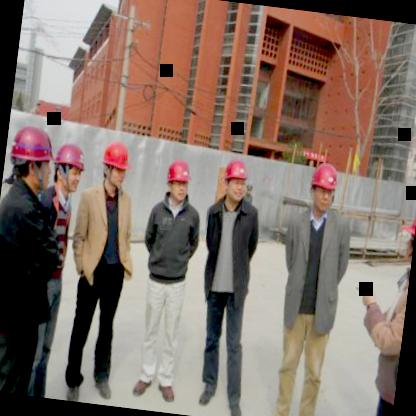helmet: (7, 122, 56, 190), (96, 135, 134, 192), (305, 157, 342, 215), (50, 140, 86, 193), (393, 197, 416, 278), (160, 156, 194, 207), (218, 156, 252, 206)
